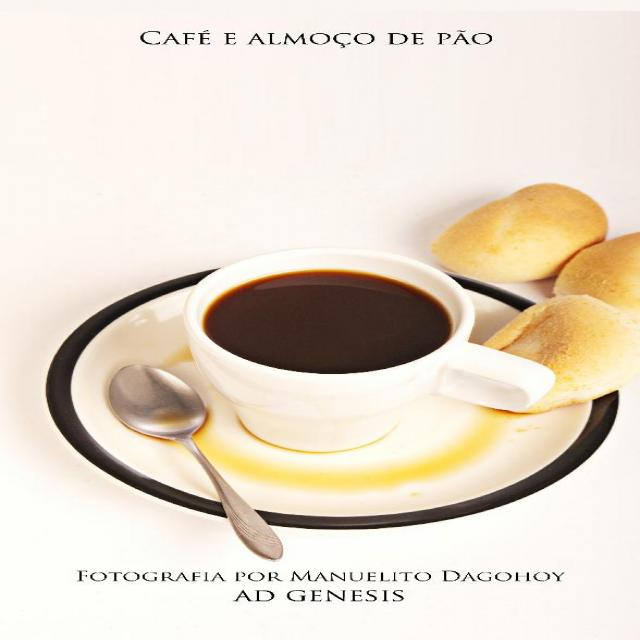Coffee: (204, 268, 452, 373)
